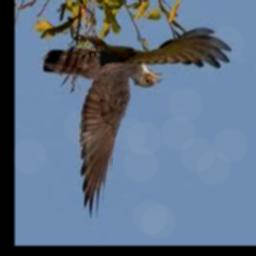Cuckoo: (43, 30, 231, 220)
